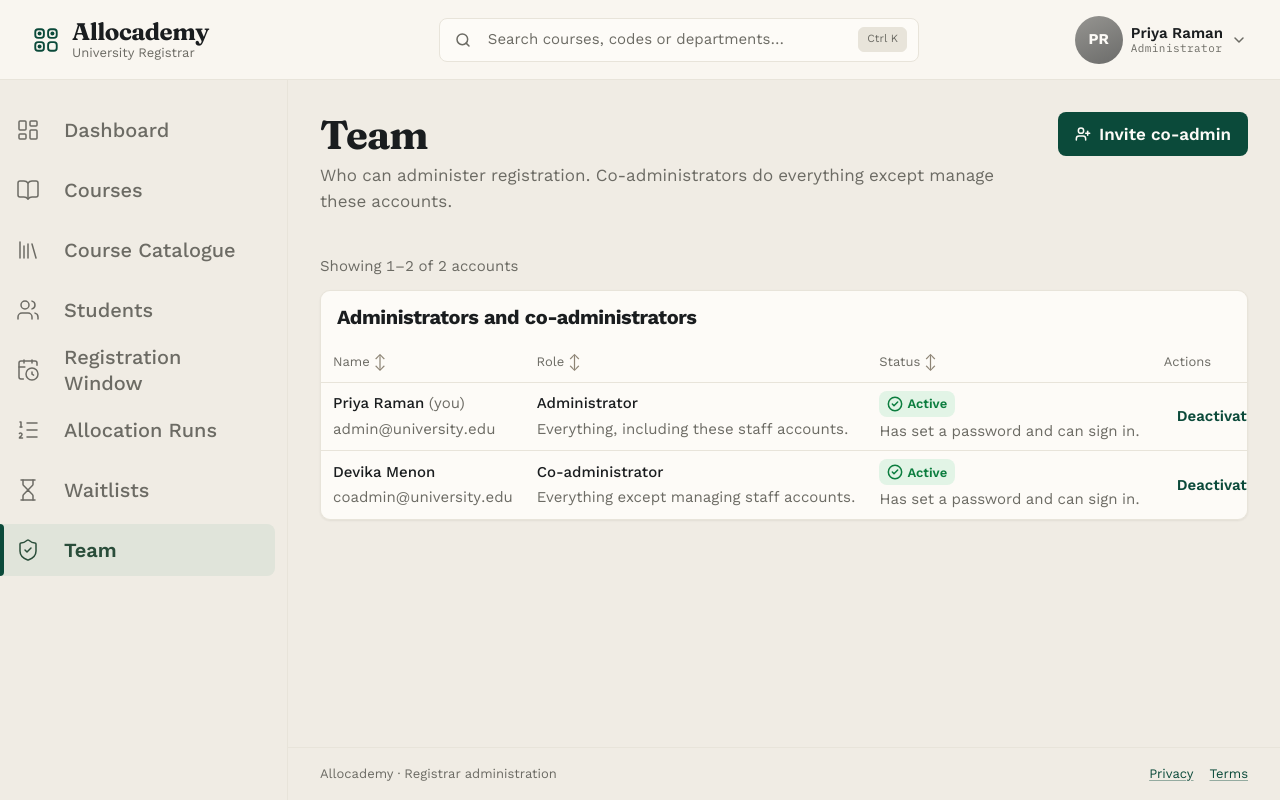
Test case: TeamPage › reports a failure without pretending the change happened
Expected: the heading "Team" is shown, 320,110 -> 428,159
Click the button "Deactivate" in the row of "Devika Menon" at (1216, 485), box 1164,467 -> 1268,503
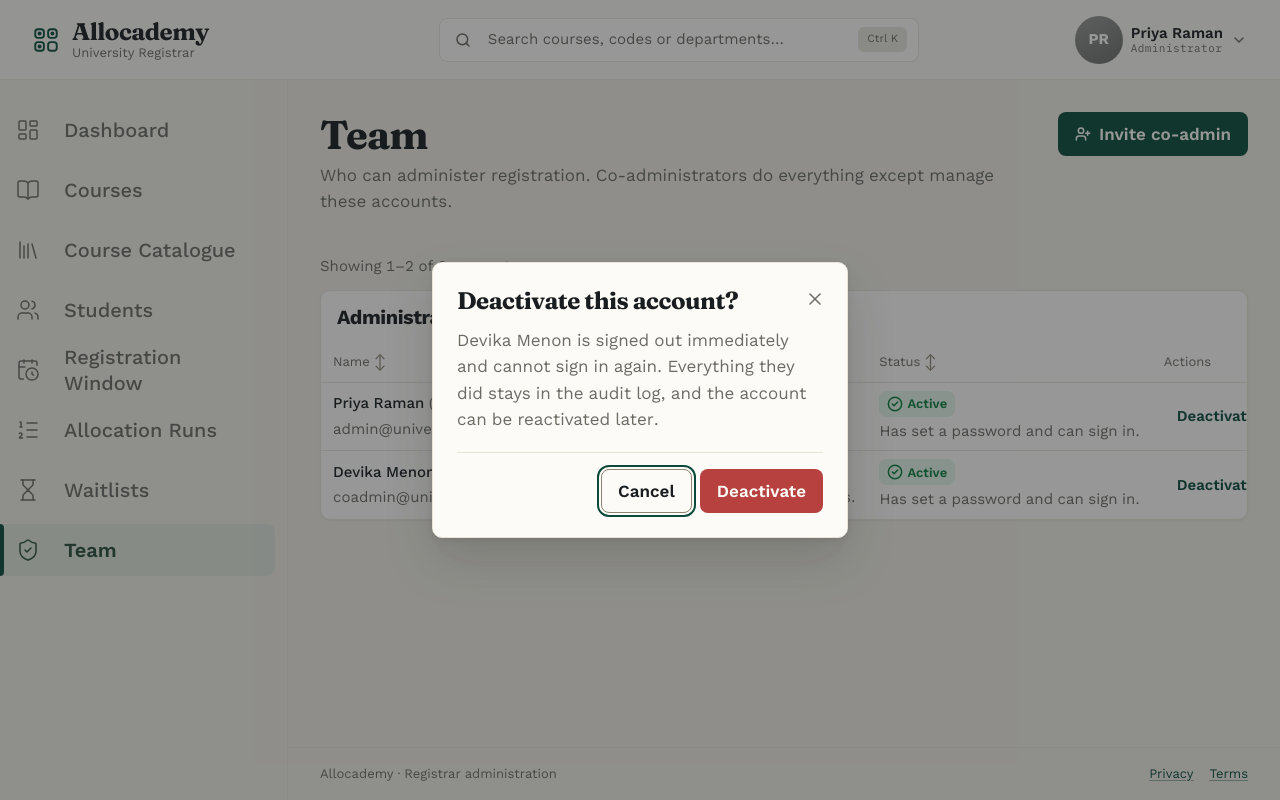
Click the button "Deactivate" at (761, 491), box 700,469 -> 823,513
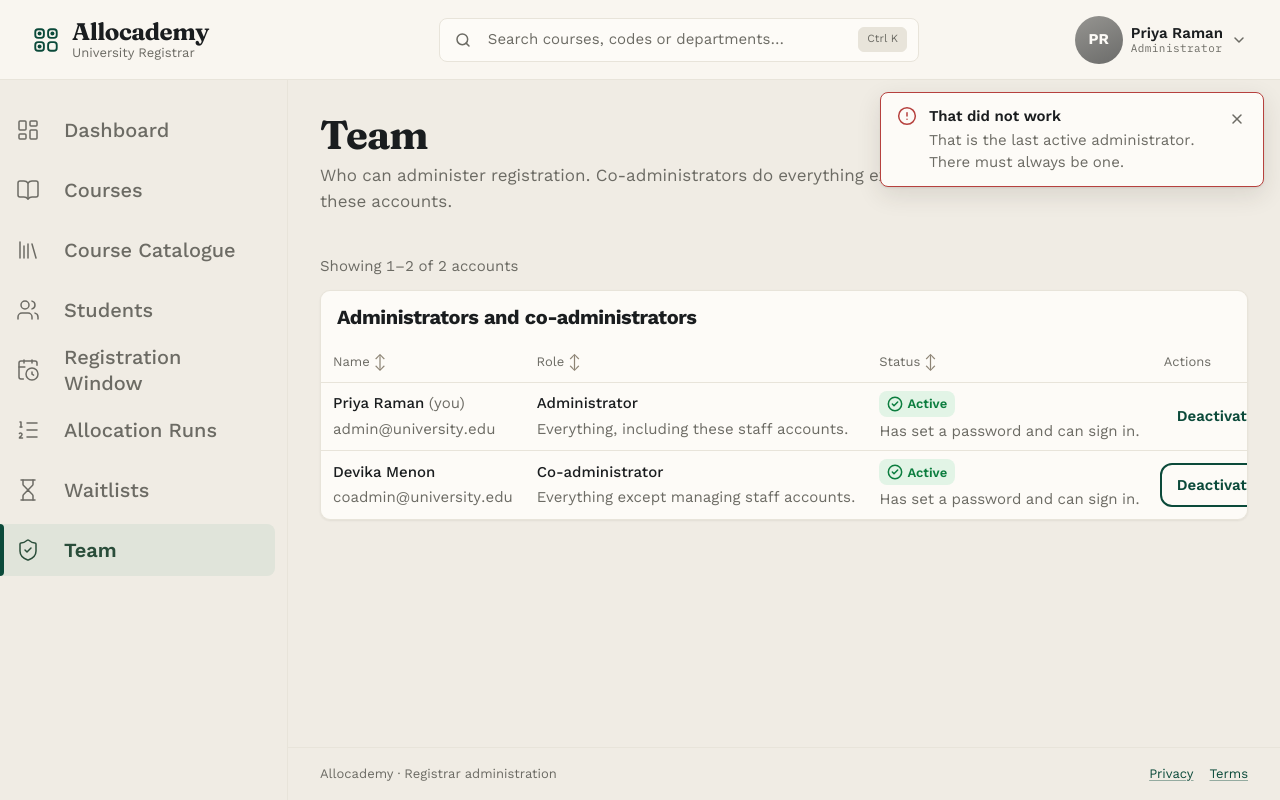
Expected: the text "Active" in the row of "Devika Menon" is shown, 908,465 -> 947,480
Now the text "That is the last active administrator. There must always be one." is shown, box 929,130 -> 1211,174
